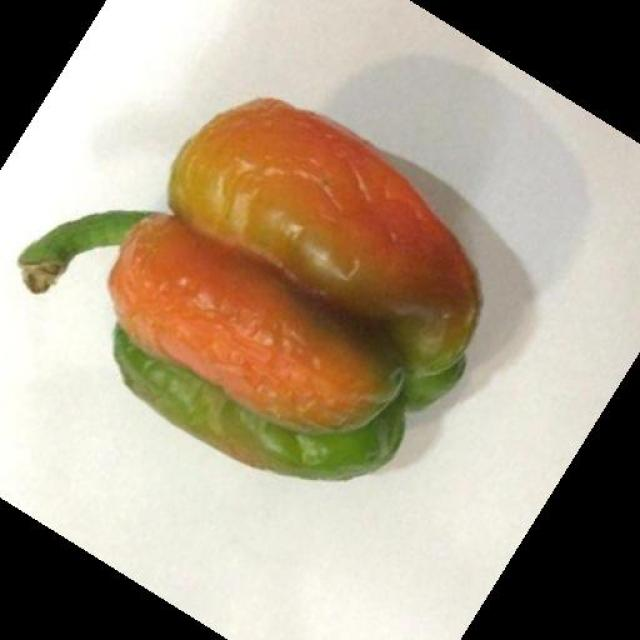Stale_Capsicum: (118, 94, 458, 480)
